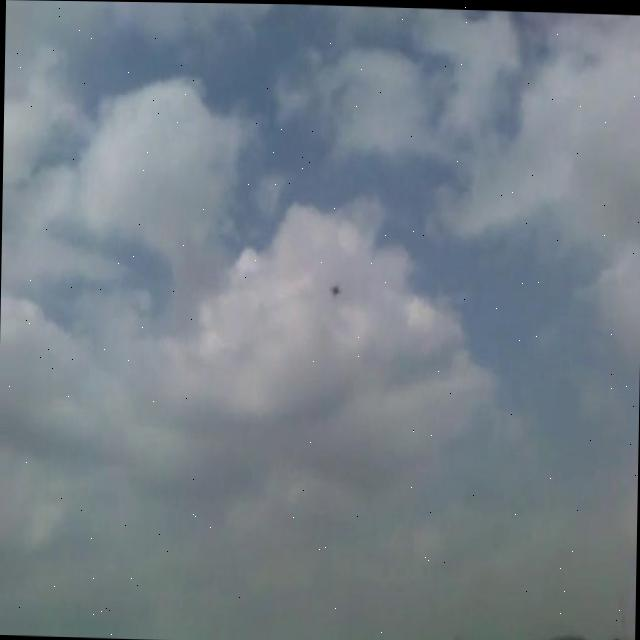drone: (328, 278, 340, 296)
